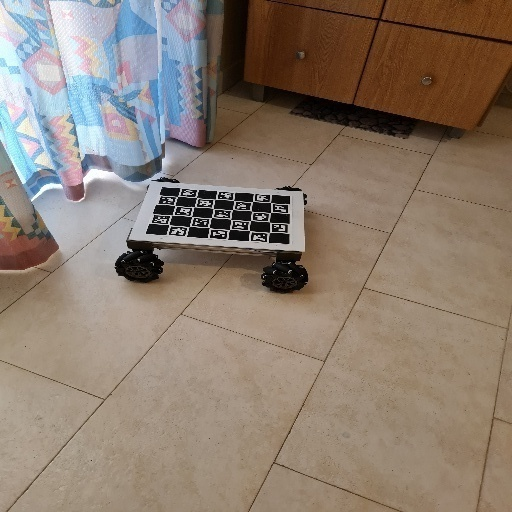Omniwheel: (116, 177, 310, 295)
